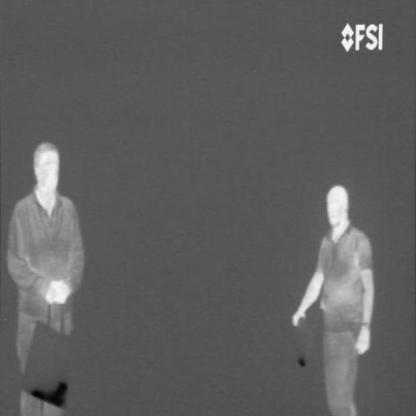weapon: (29, 379, 69, 409)
